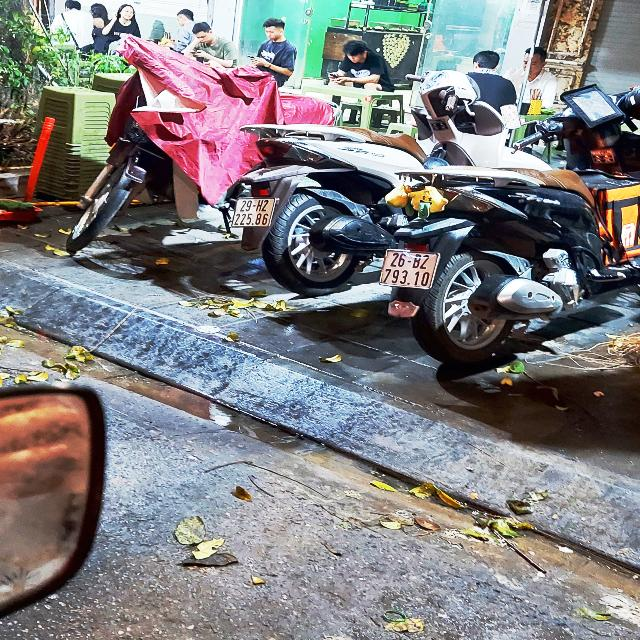license_plate: (378, 249, 443, 291), (229, 197, 280, 229)
